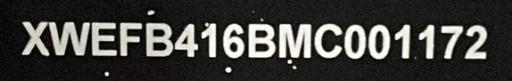letter: (47, 20, 91, 55), (277, 21, 313, 60), (142, 20, 174, 59), (20, 20, 52, 57), (245, 21, 277, 58), (313, 20, 343, 59), (88, 20, 118, 57), (438, 21, 464, 62), (118, 19, 144, 58), (220, 21, 246, 60), (366, 21, 392, 60), (462, 23, 488, 62), (343, 21, 367, 60), (173, 23, 199, 58), (198, 21, 218, 60), (392, 21, 412, 60), (416, 22, 436, 61)
